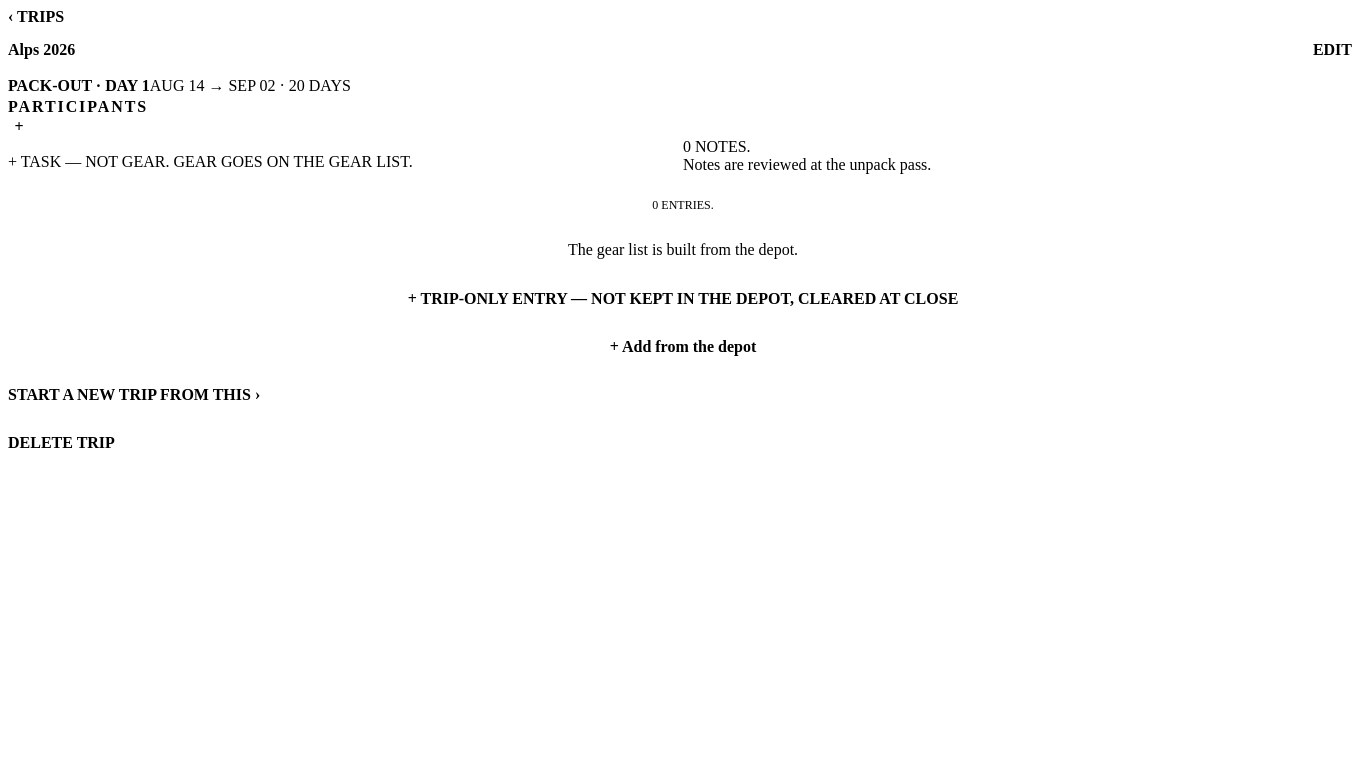
Scenario: the trip screen — EDIT › renames on its own op, and leaves the dates alone
Click the button "EDIT" at (1332, 50), box [1307, 26, 1358, 74]
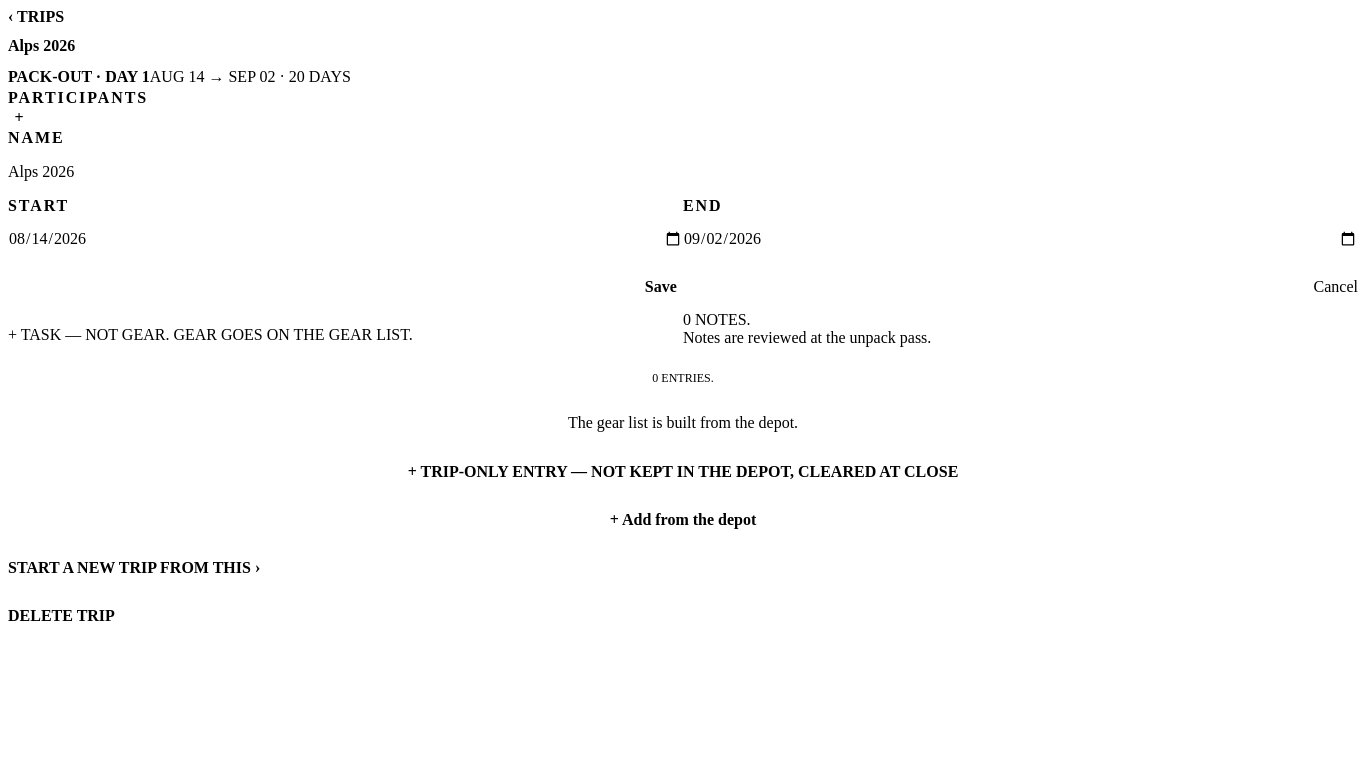
Replace the text in the field labelled "Name" with "Alps 2027" at (683, 172), box [8, 147, 1358, 197]
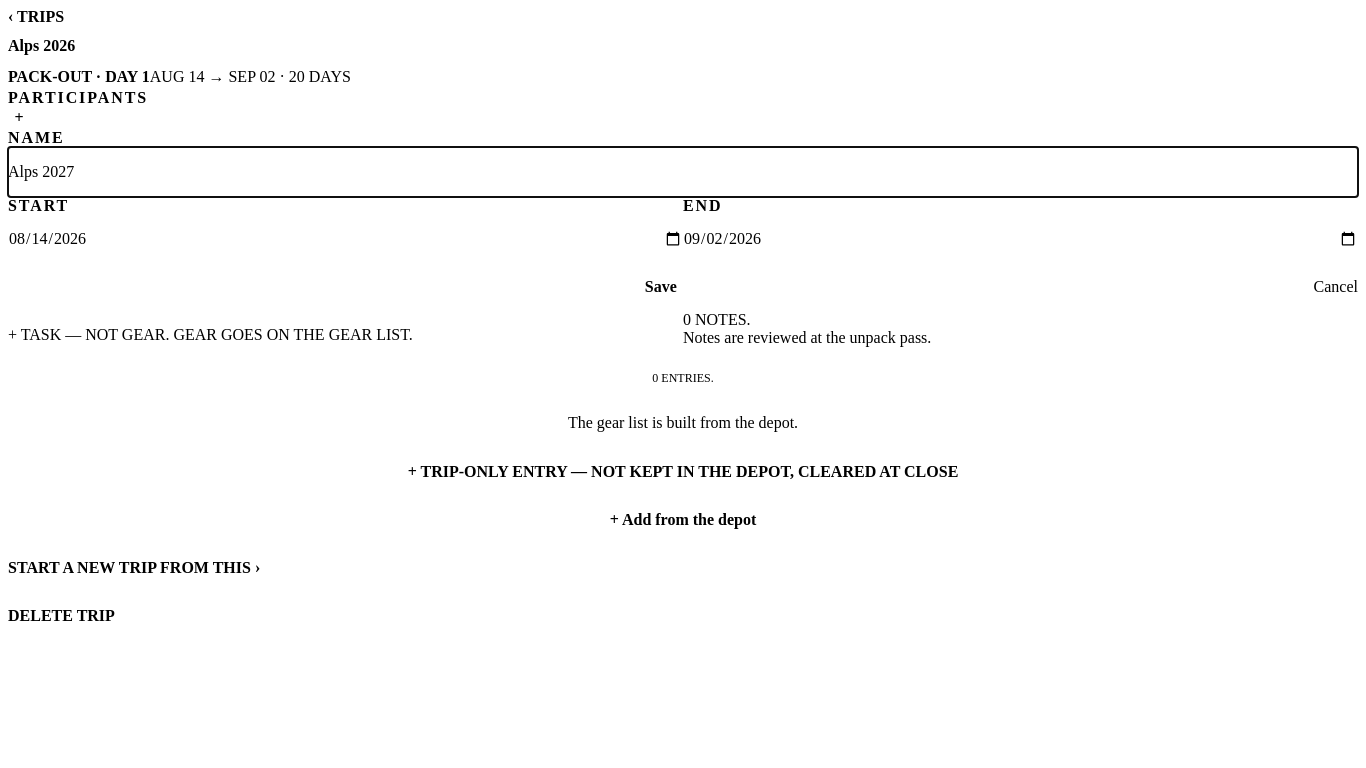
Click the button "Save" at (661, 287), box [8, 263, 1314, 311]
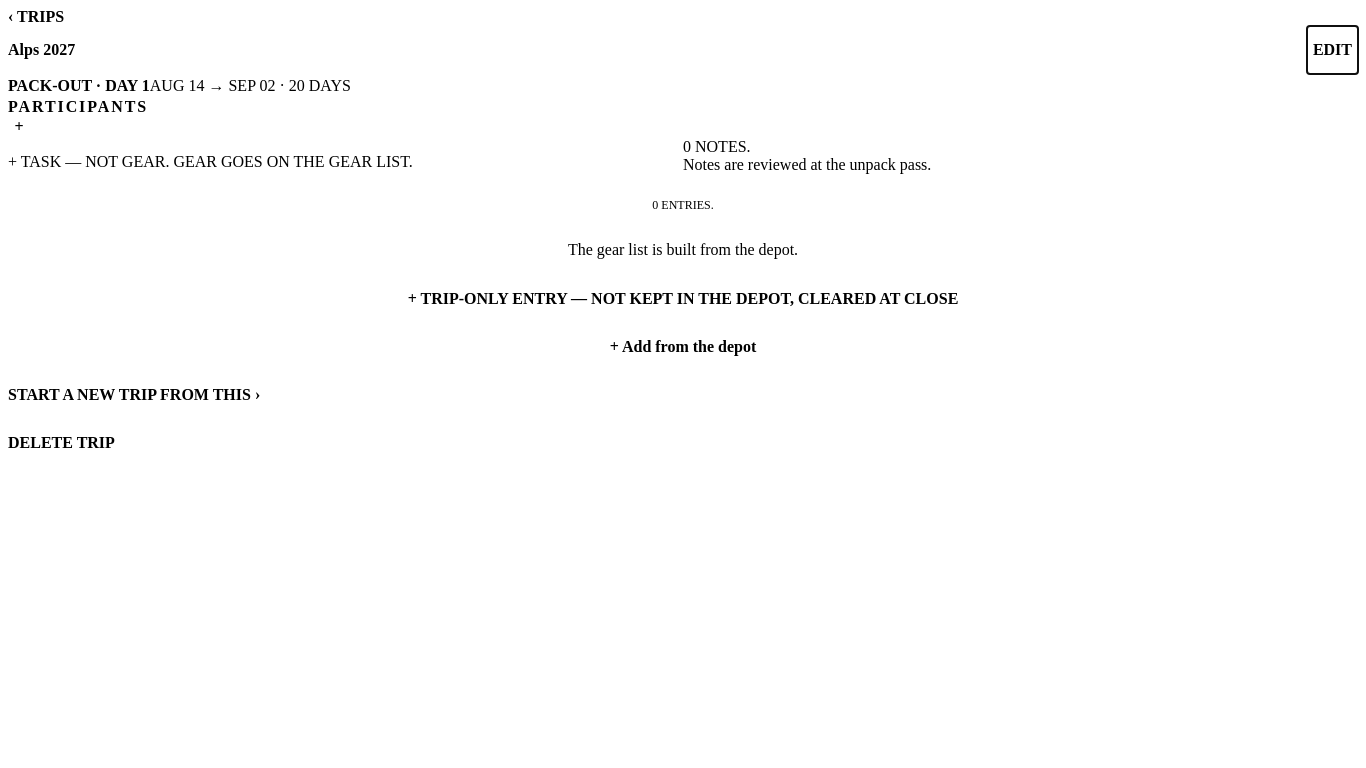
expect the heading "Alps 2027" is shown: met, box [8, 41, 75, 59]
